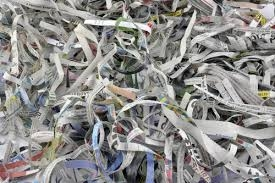paper: (154, 97, 261, 178), (69, 87, 162, 176), (166, 8, 256, 82), (37, 21, 119, 102), (1, 84, 54, 158), (4, 11, 36, 79), (74, 14, 160, 36)
